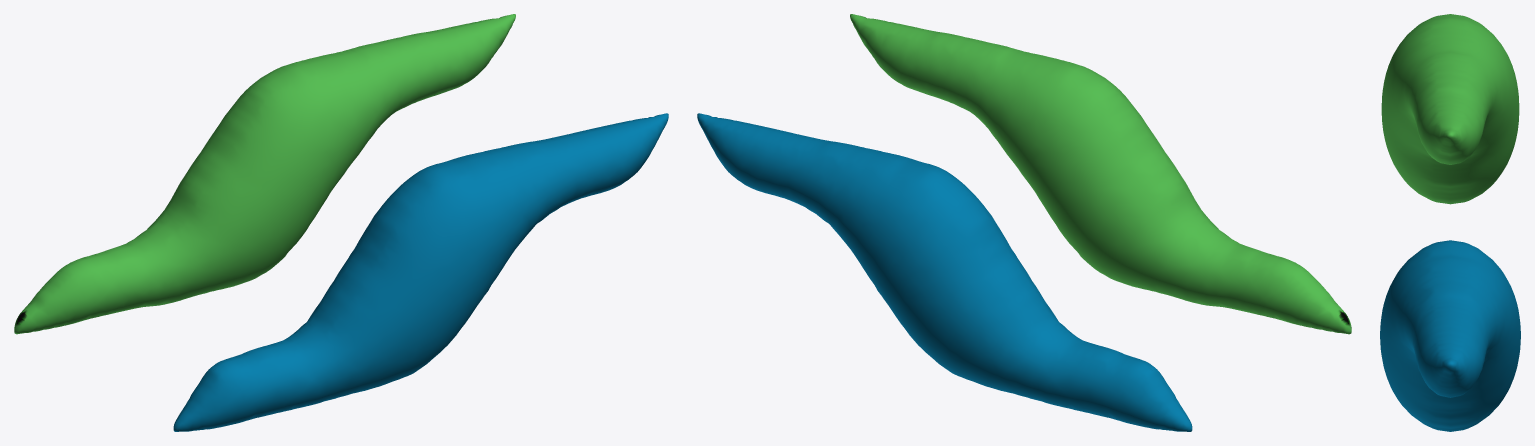
File: mrt.c.glb
3 views of the same model, side by side, from view 1: azimuth 30°, elevation 25°; view 2: azimuth 150°, elevation 25°; view 3: azimuth 270°, elevation 25° (orthographic). The views are drawn at different scales.
Parts seen in each view (by area): view 1: 218973db-6f8a-4cd4-864d-058c6813d7ec; view 2: 218973db-6f8a-4cd4-864d-058c6813d7ec; view 3: 218973db-6f8a-4cd4-864d-058c6813d7ec.
Boxes of the visible parts, box(x1,y1,x2,y2) form: 218973db-6f8a-4cd4-864d-058c6813d7ec: box(14, 14, 668, 431); 218973db-6f8a-4cd4-864d-058c6813d7ec: box(697, 14, 1351, 431); 218973db-6f8a-4cd4-864d-058c6813d7ec: box(1380, 14, 1520, 431).
Size of the model in its own units: 1.91 by 0.944 by 0.3276.
1 material, 1 textured.
